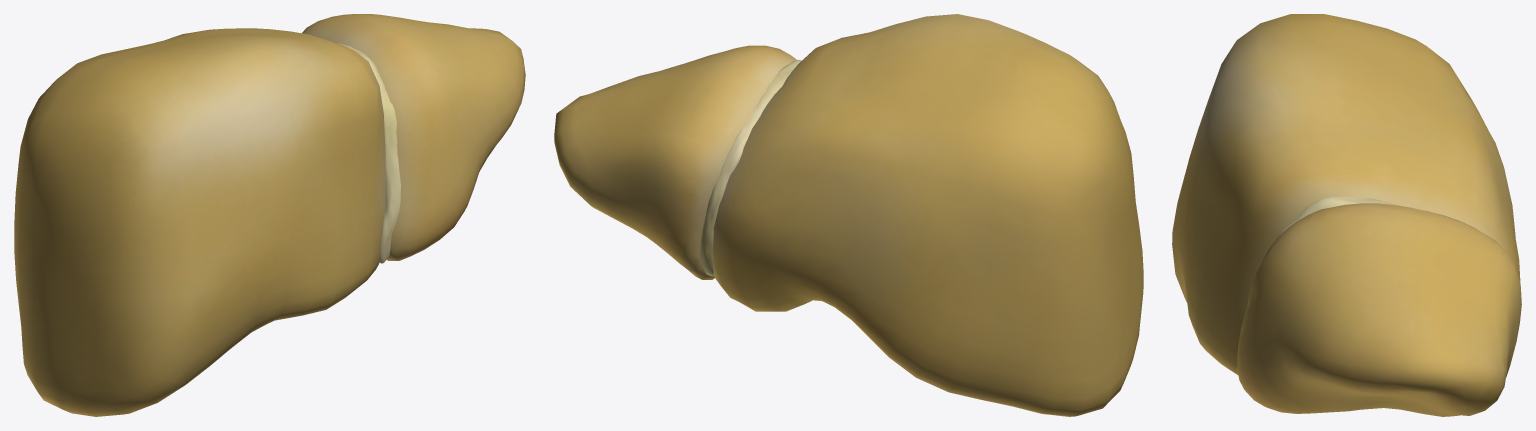
File: fatty-liver2.glb
The picture shows the model from 3 angles, left to right: view 1: azimuth 30°, elevation 25°; view 2: azimuth 150°, elevation 25°; view 3: azimuth 270°, elevation 25°; orthographic projection. The views are drawn at different scales.
Parts seen in each view (by area): view 1: Object_4; view 2: Object_4; view 3: Object_4.
Part boxes in pixels (<box>): Object_4: <box>14,14,525,416</box>; Object_4: <box>554,14,1143,416</box>; Object_4: <box>1172,14,1521,416</box>.
Size of the model in its own units: 0.2453 by 0.1505 by 0.1315.
3 materials, 3 textured.
